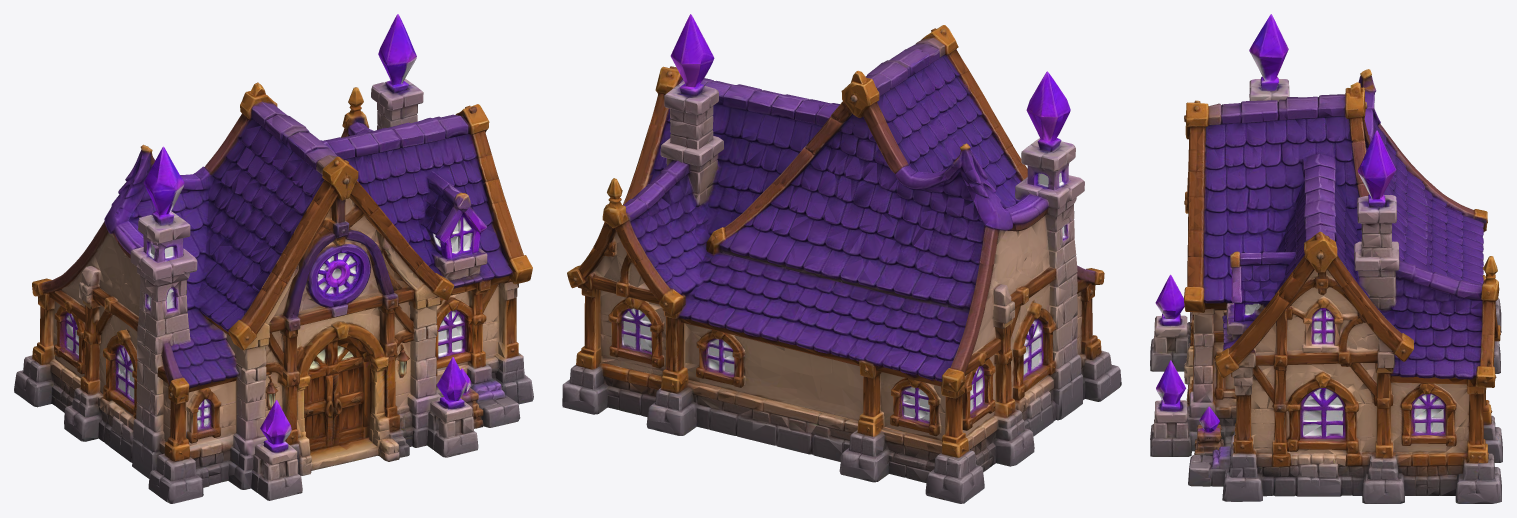
File: unreal-workshop.glb
3 renders of one model, left to right at view 1: azimuth 30°, elevation 25°; view 2: azimuth 150°, elevation 25°; view 3: azimuth 270°, elevation 25°, orthographic. The views are drawn at different scales.
Parts seen in each view (by area): view 1: Aura_Building_Export; view 2: Aura_Building_Export; view 3: Aura_Building_Export.
Part boxes in pixels (box(x1,y1,x2,y2)): Aura_Building_Export: box(14, 14, 533, 503); Aura_Building_Export: box(562, 14, 1121, 503); Aura_Building_Export: box(1150, 14, 1502, 503).
Size of the model in its own units: 0.9799 by 0.8338 by 0.7781.
Materials: 1 (1 with a texture image).
